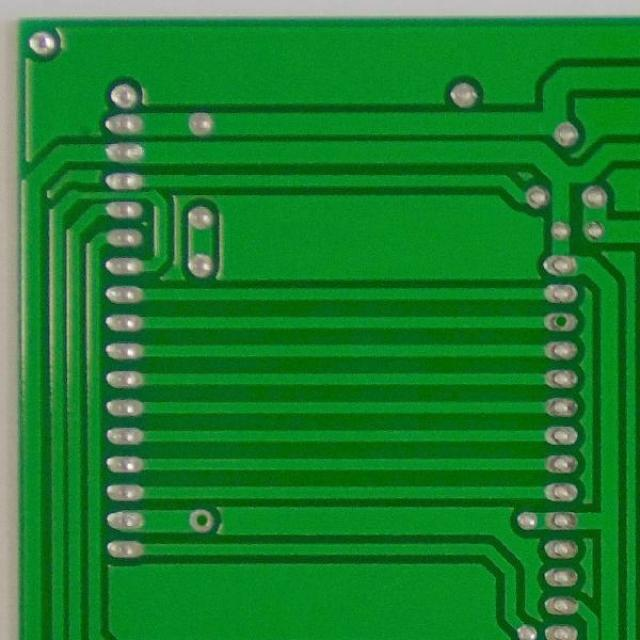Missing_Hole: (187, 508, 215, 536), (544, 310, 578, 332)
